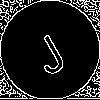J: (25, 25, 70, 77)
